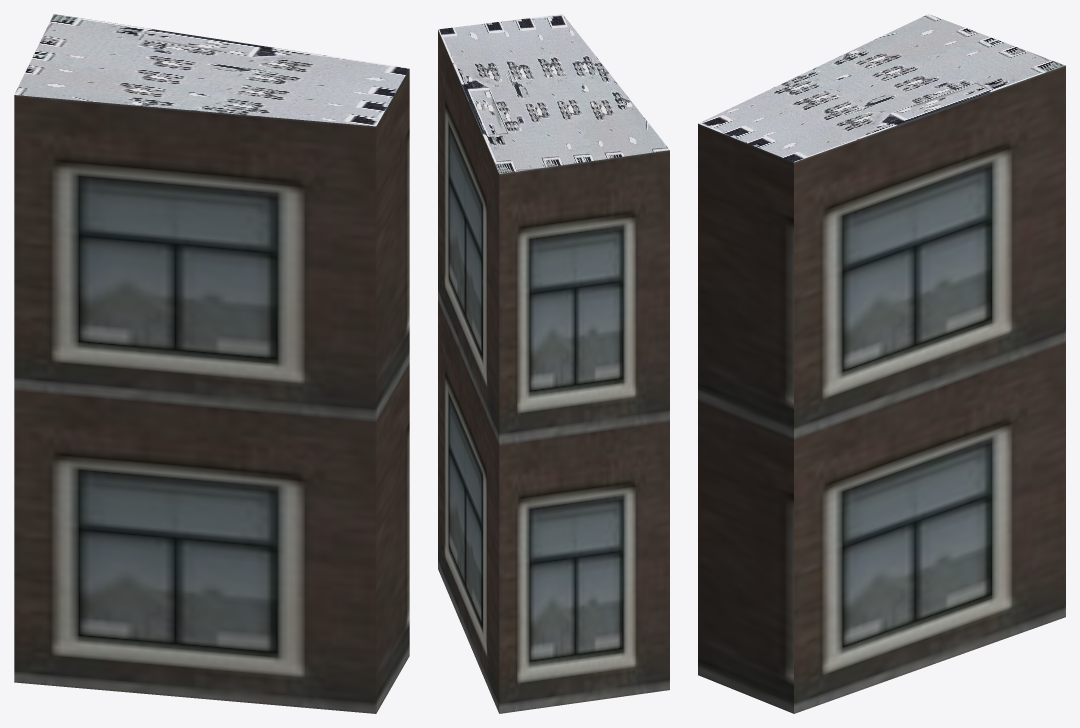
Rendered from ResTex__1811.fbx.
3 renders of one model, left to right at view 1: azimuth 30°, elevation 25°; view 2: azimuth 150°, elevation 25°; view 3: azimuth 270°, elevation 25°, orthographic. The views are drawn at different scales.
Parts seen in each view (by area): view 1: CityEngineMaterial_16_m, CityEngineMaterial_15_m; view 2: CityEngineMaterial_16_m, CityEngineMaterial_15_m; view 3: CityEngineMaterial_16_m, CityEngineMaterial_15_m.
Boxes of the visible parts, x1=… form: CityEngineMaterial_16_m: x1=14, y1=69, x2=409, y2=713; CityEngineMaterial_15_m: x1=14, y1=14, x2=409, y2=126; CityEngineMaterial_16_m: x1=438, y1=30, x2=669, y2=713; CityEngineMaterial_15_m: x1=438, y1=14, x2=669, y2=173; CityEngineMaterial_16_m: x1=698, y1=65, x2=1065, y2=713; CityEngineMaterial_15_m: x1=698, y1=14, x2=1065, y2=162.
Bounding box in the file's own units: 3.46 × 6 × 3.63.
2 materials, 2 textured.
